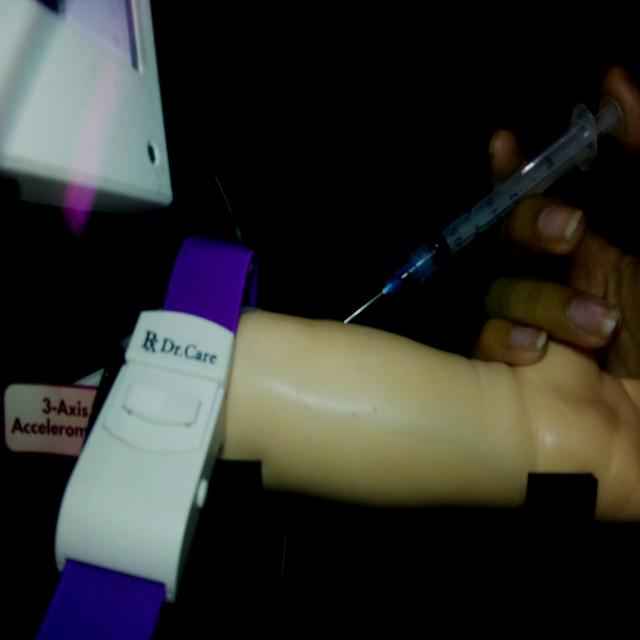29 degrees: (341, 92, 626, 326)
